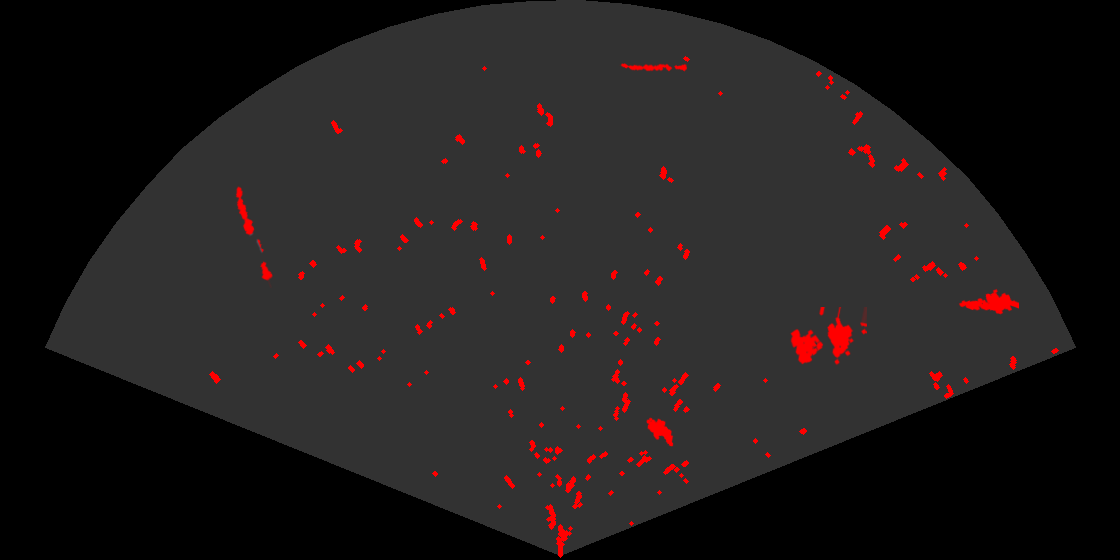AUV: (645, 416, 675, 448)
cage: (789, 307, 867, 367)
chain: (234, 184, 274, 288), (619, 62, 687, 73)
frogman: (957, 287, 1019, 316)
